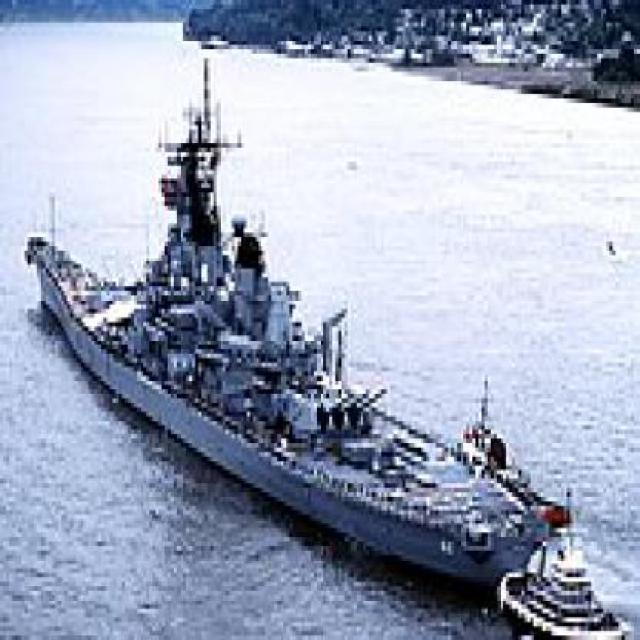warship2: (28, 86, 537, 587)
